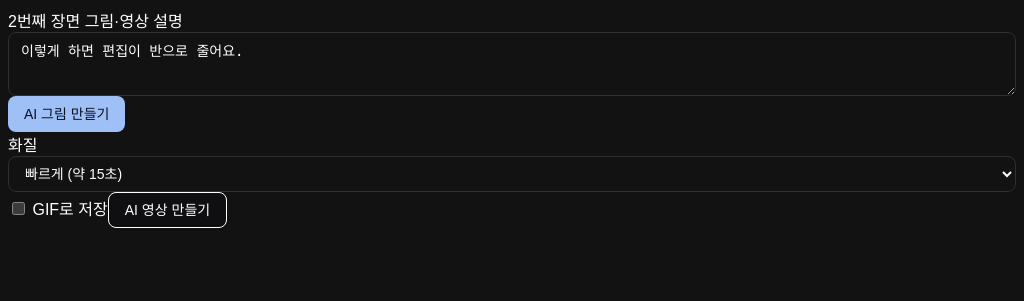
Scenario: 장면 그림 만들기 › 꺼져 있는 것과 고장 난 것을 다른 말로 알려 준다
Click the button "AI 그림 만들기" at (67, 114), box [8, 96, 125, 132]
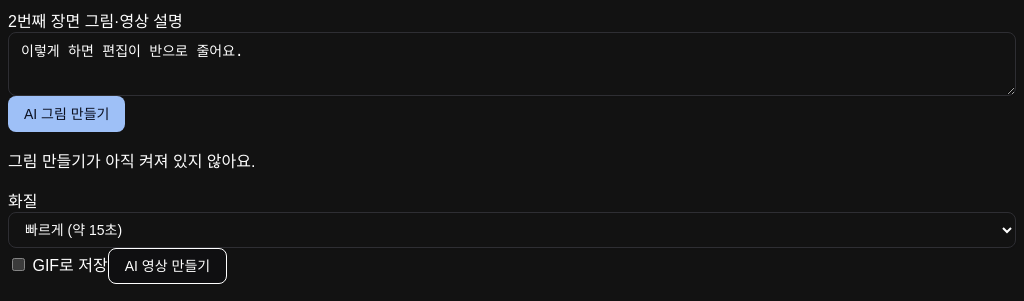
expect the text "그림 만들기가 아직 켜져 있지 않아요." is shown: met, box [8, 153, 256, 170]
